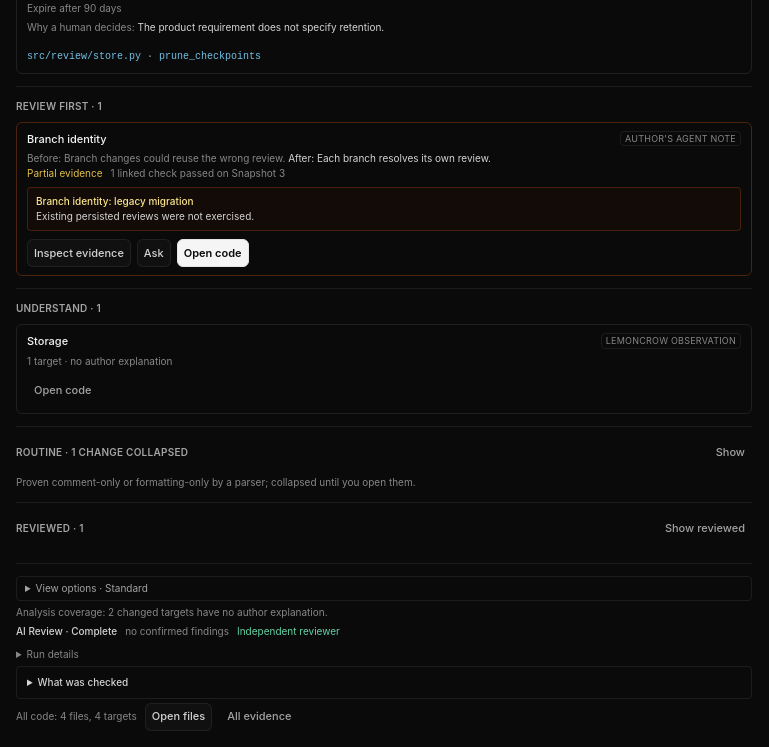
Test: ReviewBrief AI review › previews a fresh re-run at the action boundary and submits one action id only on confirm
The image size is (769, 747).
(page scrolled)
Click the heading "Run details".
click(53, 654)  # box [27,648,79,660]
(page scrolled)
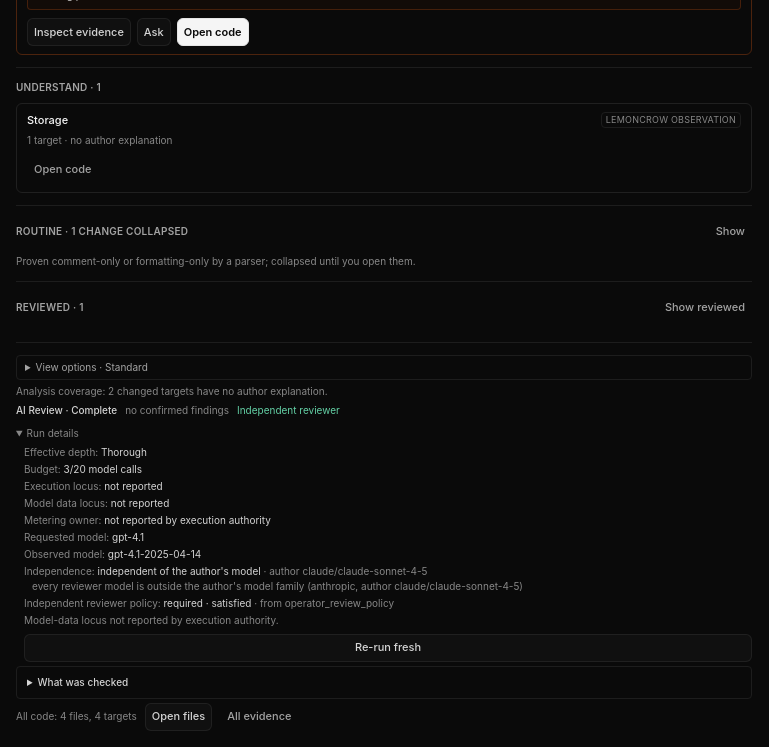
Expected: the button "Re-run fresh" is shown
Click the button "Re-run fresh".
click(388, 648)  # box [24,634,752,662]
(page scrolled)
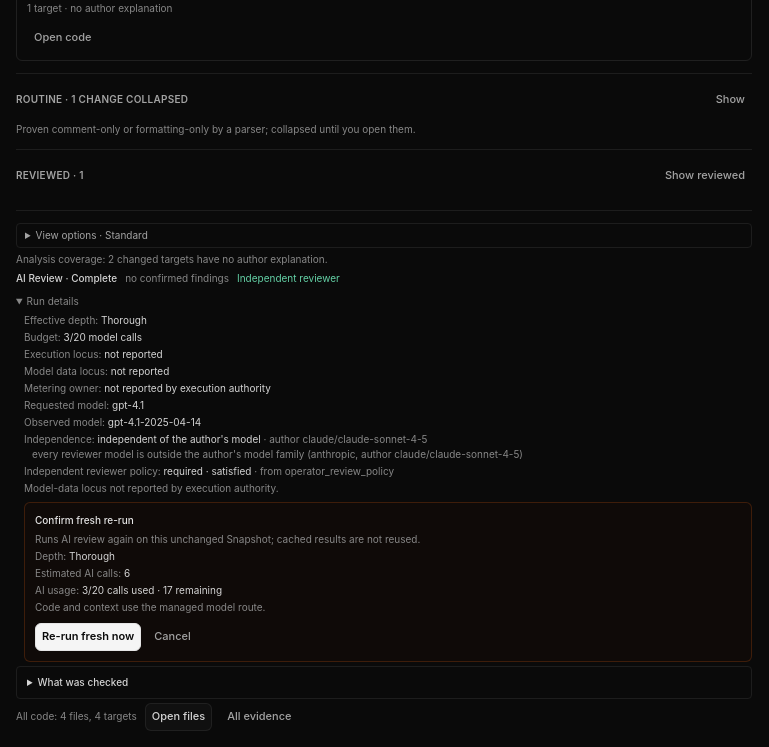
Expected: the element "Confirm fresh re-run" shows "Runs AI review again on this unchanged Snapshot; cached results are not reused.", [35,532,420,544]
Expected: the element "Confirm fresh re-run" shows "Depth: thorough", [24,502,752,662]
Expected: the element "Confirm fresh re-run" shows "Estimated AI calls: 6", [24,502,752,662]
Click the button "Cancel".
click(172, 636)  # box [147,622,198,650]
(page scrolled)
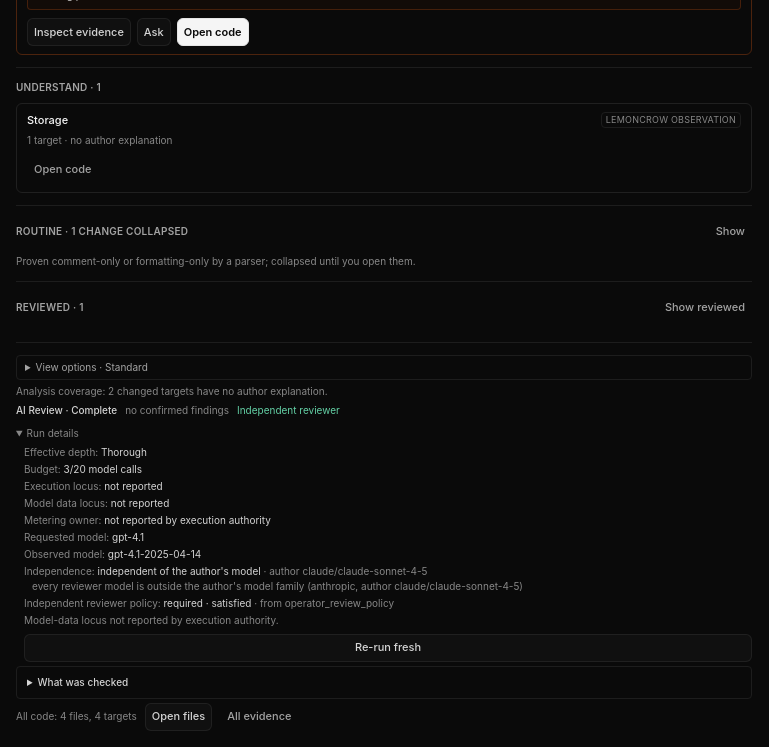
Click the button "Re-run fresh".
click(388, 648)  # box [24,634,752,662]
(page scrolled)
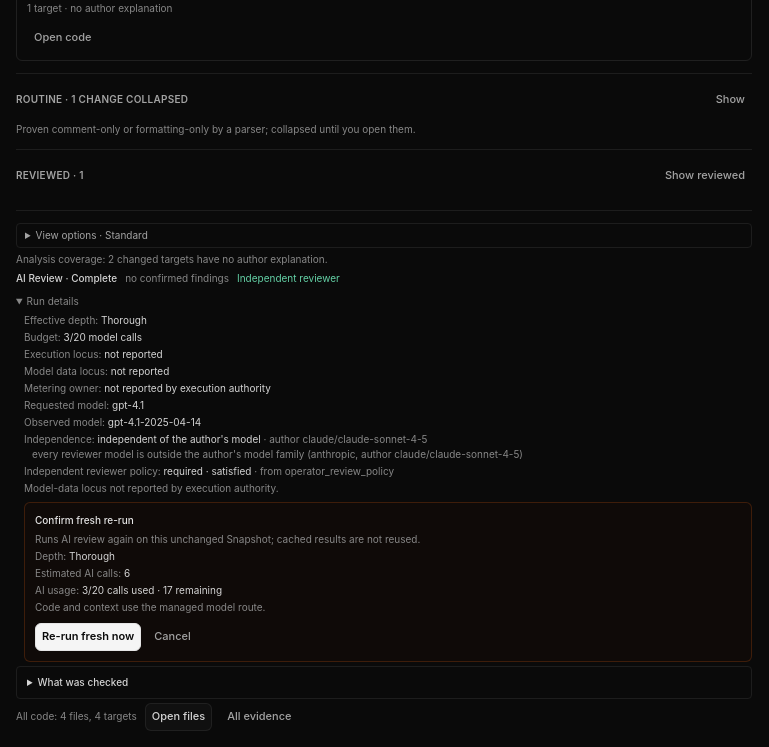
Click the button "Re-run fresh now".
click(88, 636)  # box [35,622,141,650]
(page scrolled)
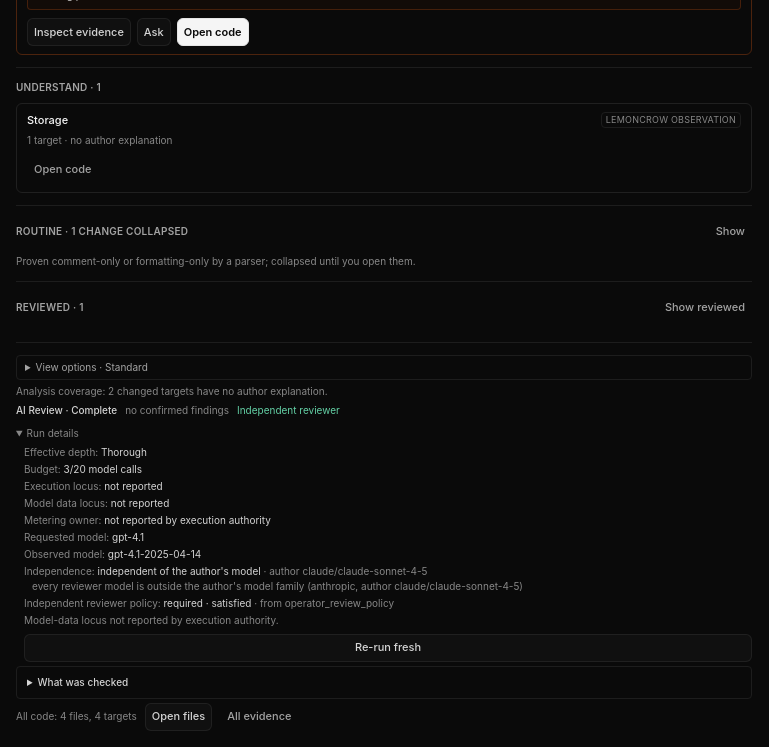
Expected: the text "Confirm fresh re-run" is gone
